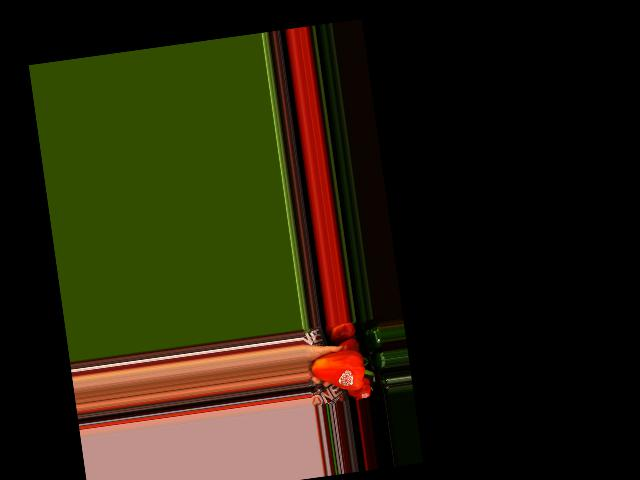bell_pepper: (310, 342, 377, 396)
